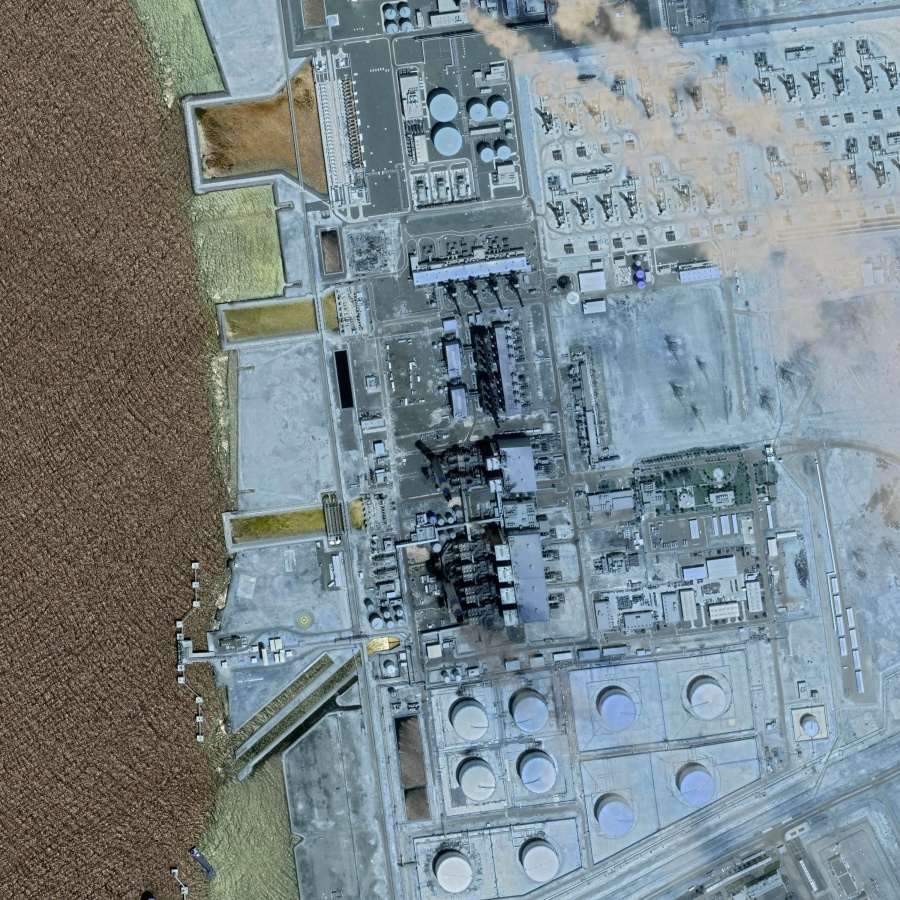PowerPlant: (362, 312, 584, 628)
